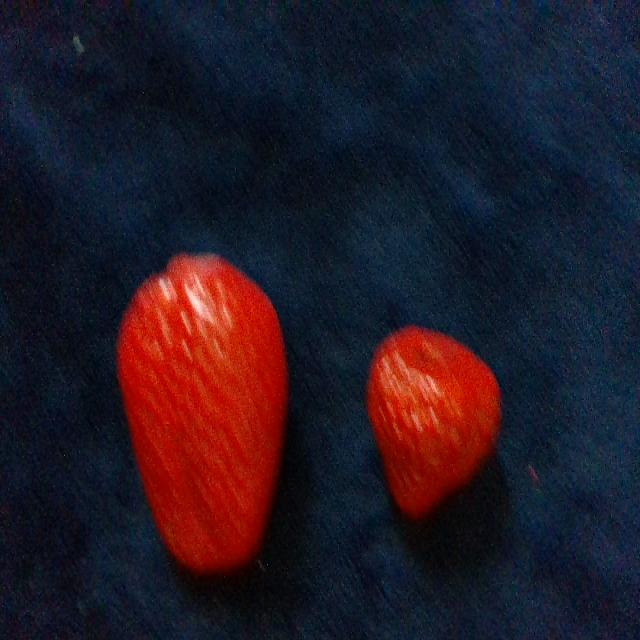chica_roja: (367, 327, 500, 516)
grande_roja: (118, 255, 287, 572)
